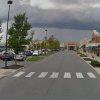Crosswalk: (14, 64, 92, 86)
